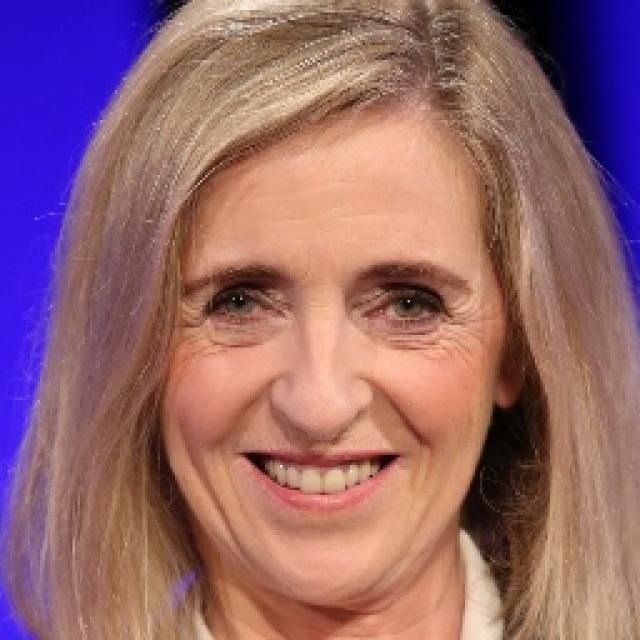earlobe: (492, 364, 524, 410)
eye: (206, 285, 286, 322), (366, 290, 446, 325)
nose: (268, 405, 382, 483)
